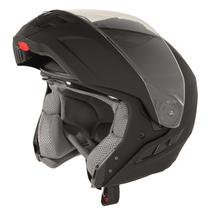with_helmet: (11, 6, 201, 191)
